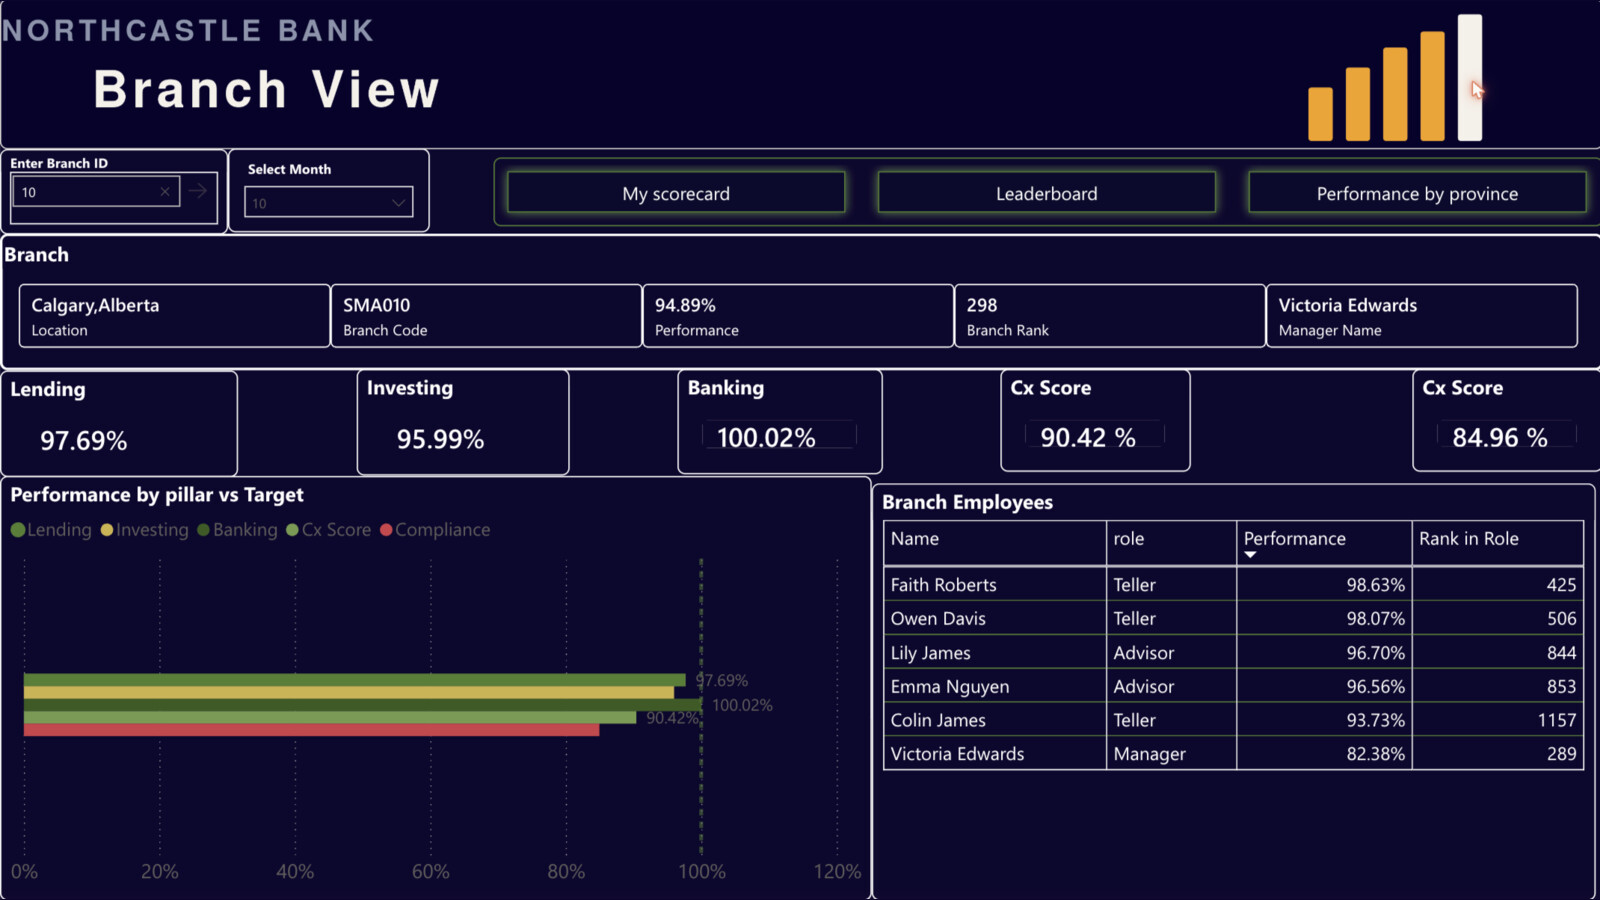

Layout of this report page (visuals, bound fields, positions):
{"tool":"powerbi","page":{"name":"Branch View","canvas":[1280,720],"ordinal":2},"visuals":[{"type":"cardVisual","title":"Branch","fields":{"Data":["Min(dim_branch.Branch)","Min(dim_branch.branch_code)","fact_sales.Branch Score","fact_sales.Branch Rank","dim_employee.Manager Name"]},"box":[0,187.4,1280.3,108.7],"z":0},{"type":"textSlicer","fields":{"Values":["dim_branch.branch_id"]},"box":[0,119.8,181.8,67.6],"z":1000},{"type":"image","box":[0,0,1280,119.8],"z":2000},{"type":"cardVisual","title":"LEI","fields":{"Data":["fact_sales.Pct LEI"]},"box":[804.8,296.1,117.3,84.2],"z":3000},{"type":"cardVisual","title":"Lending","fields":{"Data":["fact_sales.Pct_lending"]},"box":[0,296.1,190.4,84.2],"z":4000},{"type":"cardVisual","title":"Investing","fields":{"Data":["fact_sales.pct_investing"]},"box":[274.6,296.1,156.7,84.2],"z":5000},{"type":"cardVisual","title":"Banking","fields":{"Data":["fact_sales.pct_banking_units"]},"box":[532.6,296.1,163.4,84.2],"z":6000},{"type":"cardVisual","title":"Compliance","fields":{"Data":["fact_sales.Pct Compliance"]},"box":[1027.5,295.8,117.3,84.6],"z":7000},{"type":"clusteredBarChart","title":"Performance by pillar vs Target","fields":{"Y":["fact_sales.Pct_lending","fact_sales.pct_investing","fact_sales.pct_banking_units","fact_sales.Pct LEI","fact_sales.Pct Compliance"]},"box":[0,386.7,696,333.2],"z":8000},{"type":"tableEx","title":"Branch Employees ","fields":{"Values":["dim_employee.Name","dim_employee.role","fact_sales.Weighted Score","fact_sales.Rank in Role"]},"box":[696,386.7,578.4,333.2],"z":9000},{"type":"pageNavigator","box":[394,126.4,886,55.5],"z":11000},{"type":"slicer","fields":{"Values":["dim_month.month_number"]},"box":[181.8,120.6,160.6,67.1],"z":12000}]}

Visuals, with their boxes in screenshot pixels (x1, y1, x2, y2), scaled from the page's 1280x720 canvas onto the 1600x900 screenshot:
"Branch" cardVisual: {"x1": 0, "y1": 234, "x2": 1599, "y2": 370}
textSlicer - dim_branch.branch_id: {"x1": 0, "y1": 150, "x2": 227, "y2": 234}
image: {"x1": 0, "y1": 0, "x2": 1599, "y2": 150}
"LEI" cardVisual: {"x1": 1006, "y1": 370, "x2": 1153, "y2": 475}
"Lending" cardVisual: {"x1": 0, "y1": 370, "x2": 238, "y2": 475}
"Investing" cardVisual: {"x1": 343, "y1": 370, "x2": 539, "y2": 475}
"Banking" cardVisual: {"x1": 666, "y1": 370, "x2": 870, "y2": 475}
"Compliance" cardVisual: {"x1": 1284, "y1": 370, "x2": 1431, "y2": 476}
"Performance by pillar vs Target" clusteredBarChart: {"x1": 0, "y1": 483, "x2": 870, "y2": 899}
"Branch Employees " tableEx: {"x1": 870, "y1": 483, "x2": 1593, "y2": 899}
pageNavigator: {"x1": 492, "y1": 158, "x2": 1599, "y2": 227}
slicer - dim_month.month_number: {"x1": 227, "y1": 151, "x2": 428, "y2": 235}
